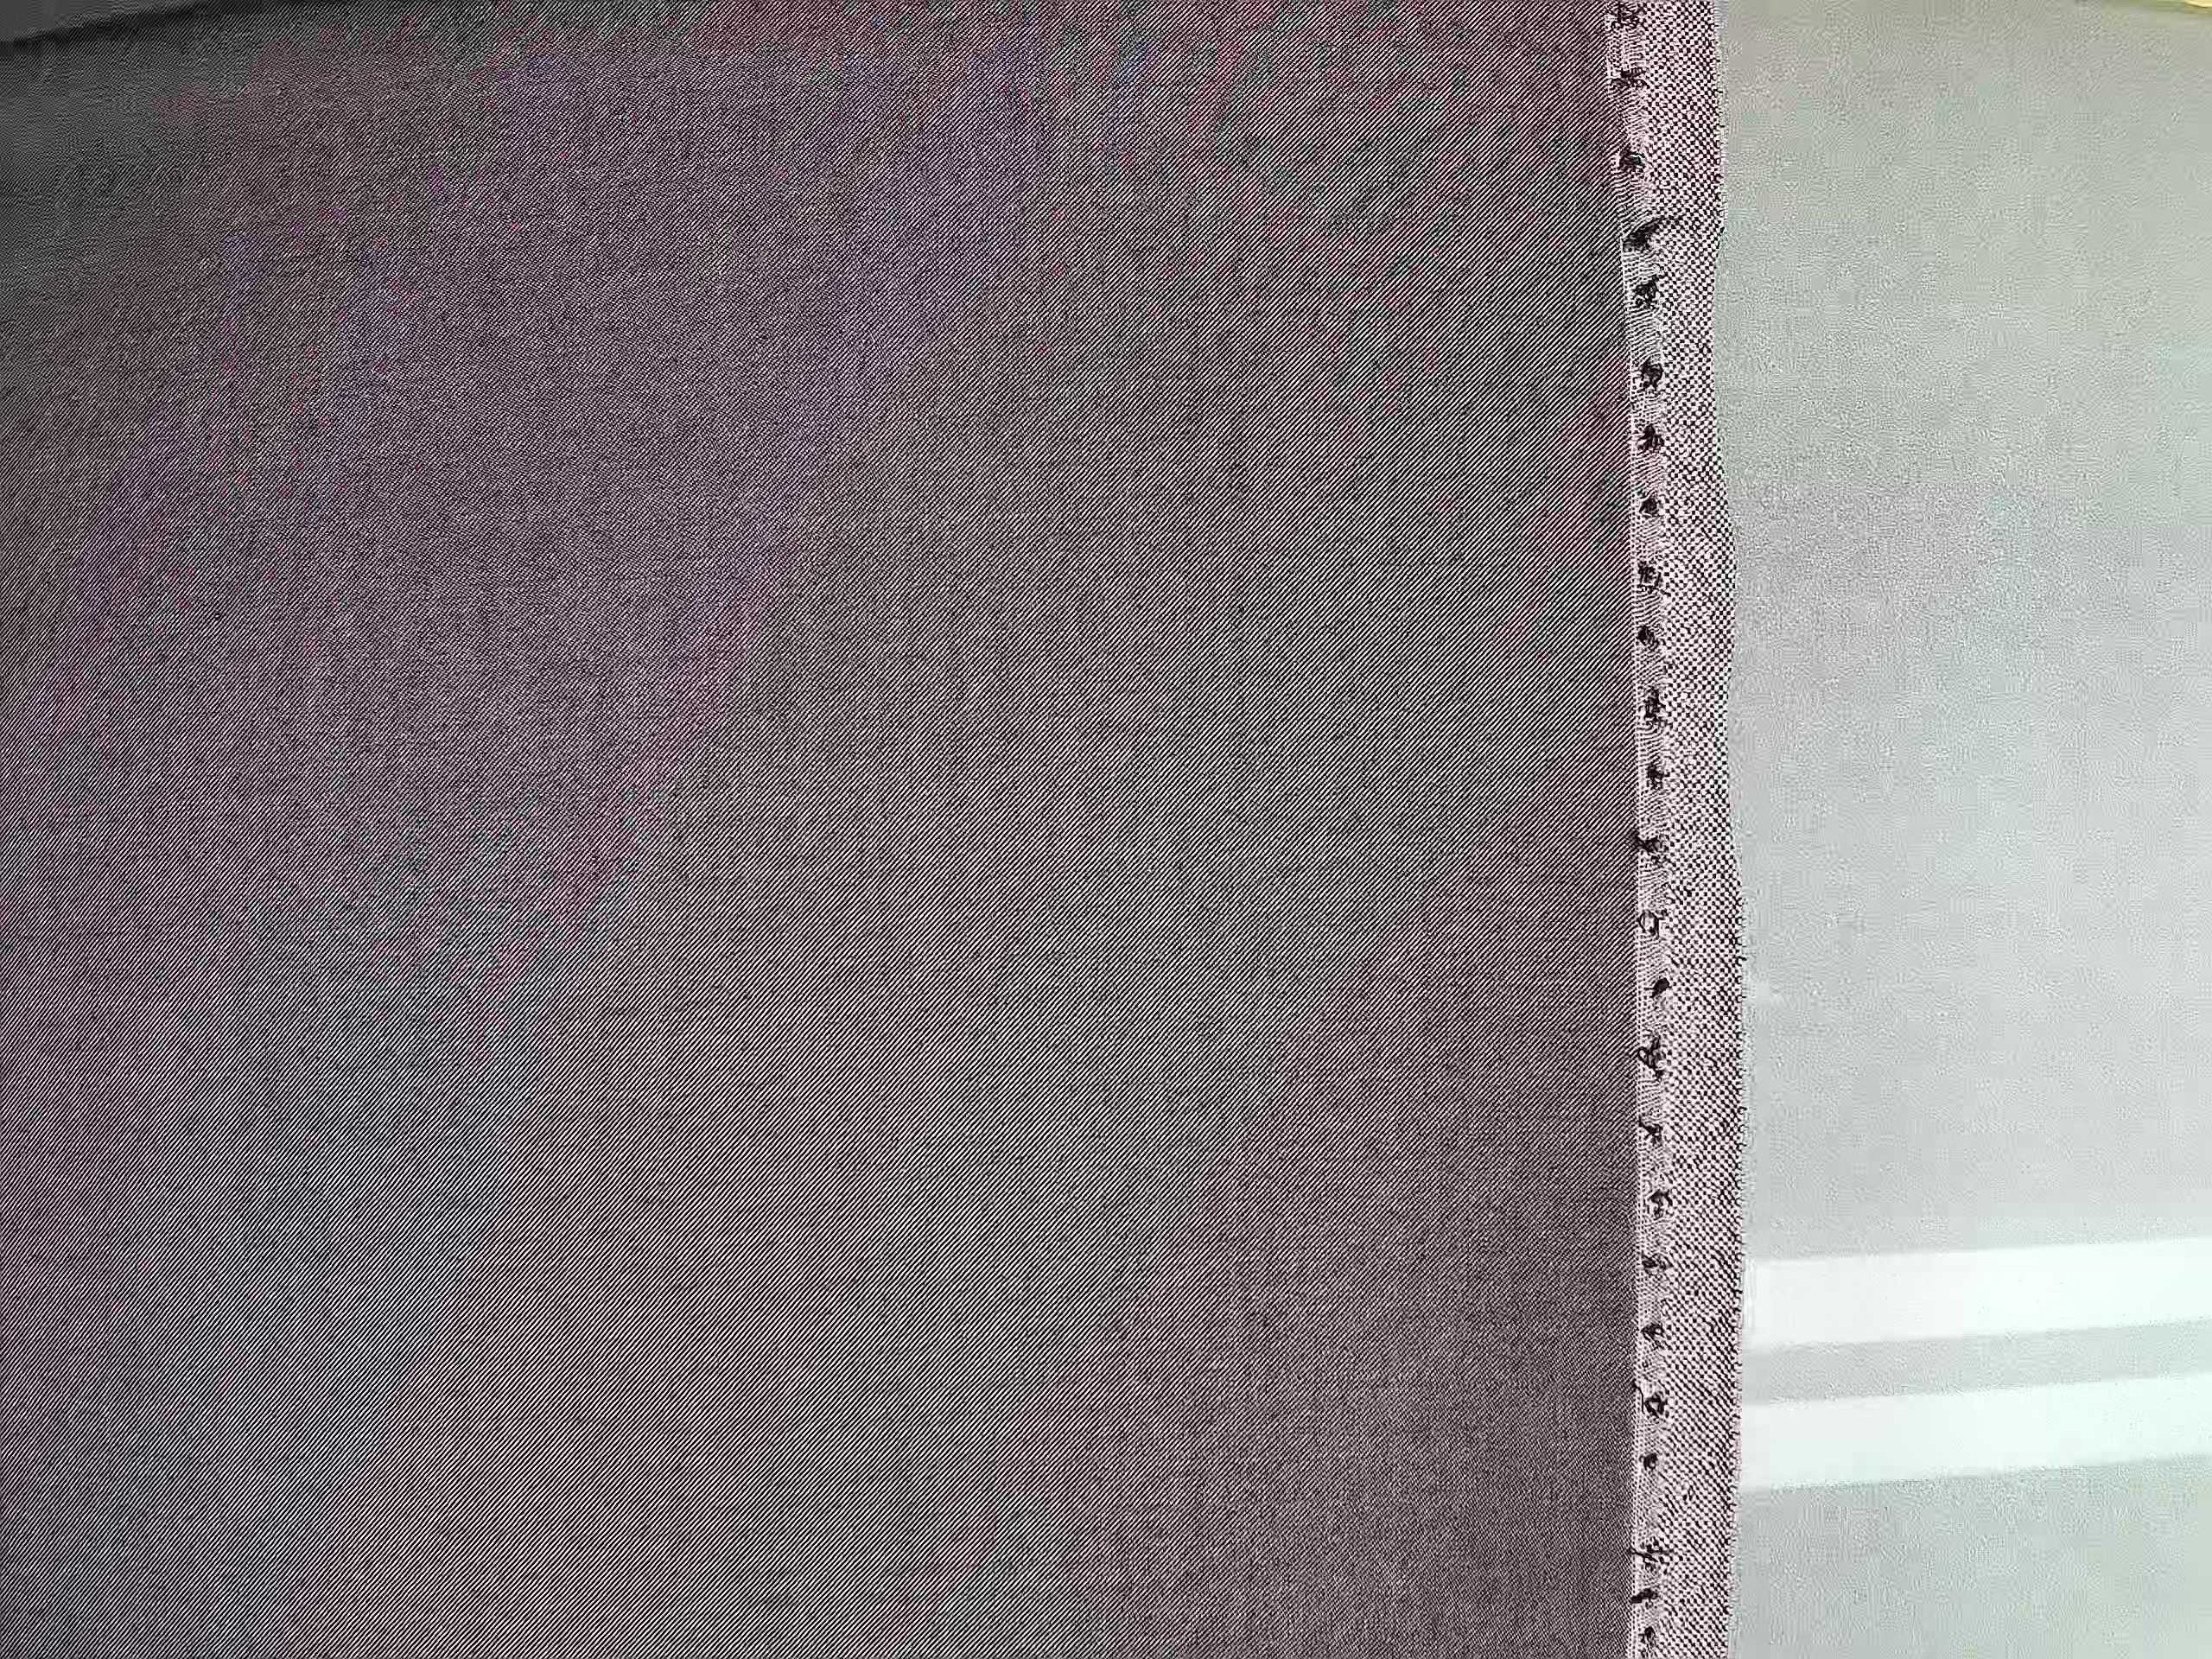puncture-hole: (1597, 10, 1677, 1645)
